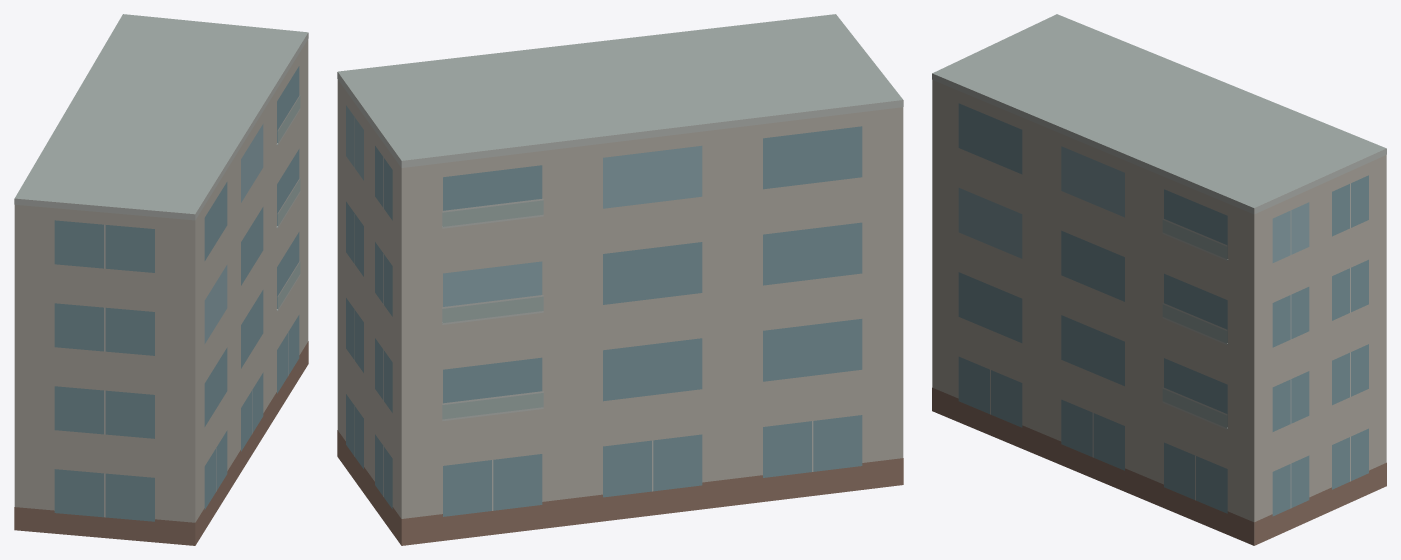
File: survey-upis-32827367.glb
3 views of the same model, side by side, from view 1: azimuth 30°, elevation 25°; view 2: azimuth 150°, elevation 25°; view 3: azimuth 270°, elevation 25° (orthographic). The views are drawn at different scales.
Parts seen in each view (by area): view 1: survey-upis-32827367.tmp; view 2: survey-upis-32827367.tmp; view 3: survey-upis-32827367.tmp.
Boxes of the visible parts, x1=… form: survey-upis-32827367.tmp: x1=14, y1=14, x2=308, y2=545; survey-upis-32827367.tmp: x1=337, y1=14, x2=903, y2=545; survey-upis-32827367.tmp: x1=932, y1=14, x2=1386, y2=545.
Bounding box in the file's own units: 16.16 × 13.1 × 15.99.
